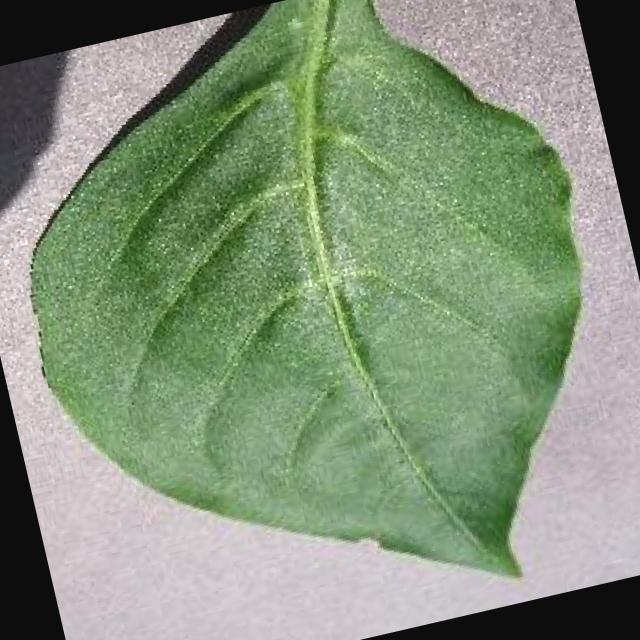healthy: (34, 0, 581, 576)
